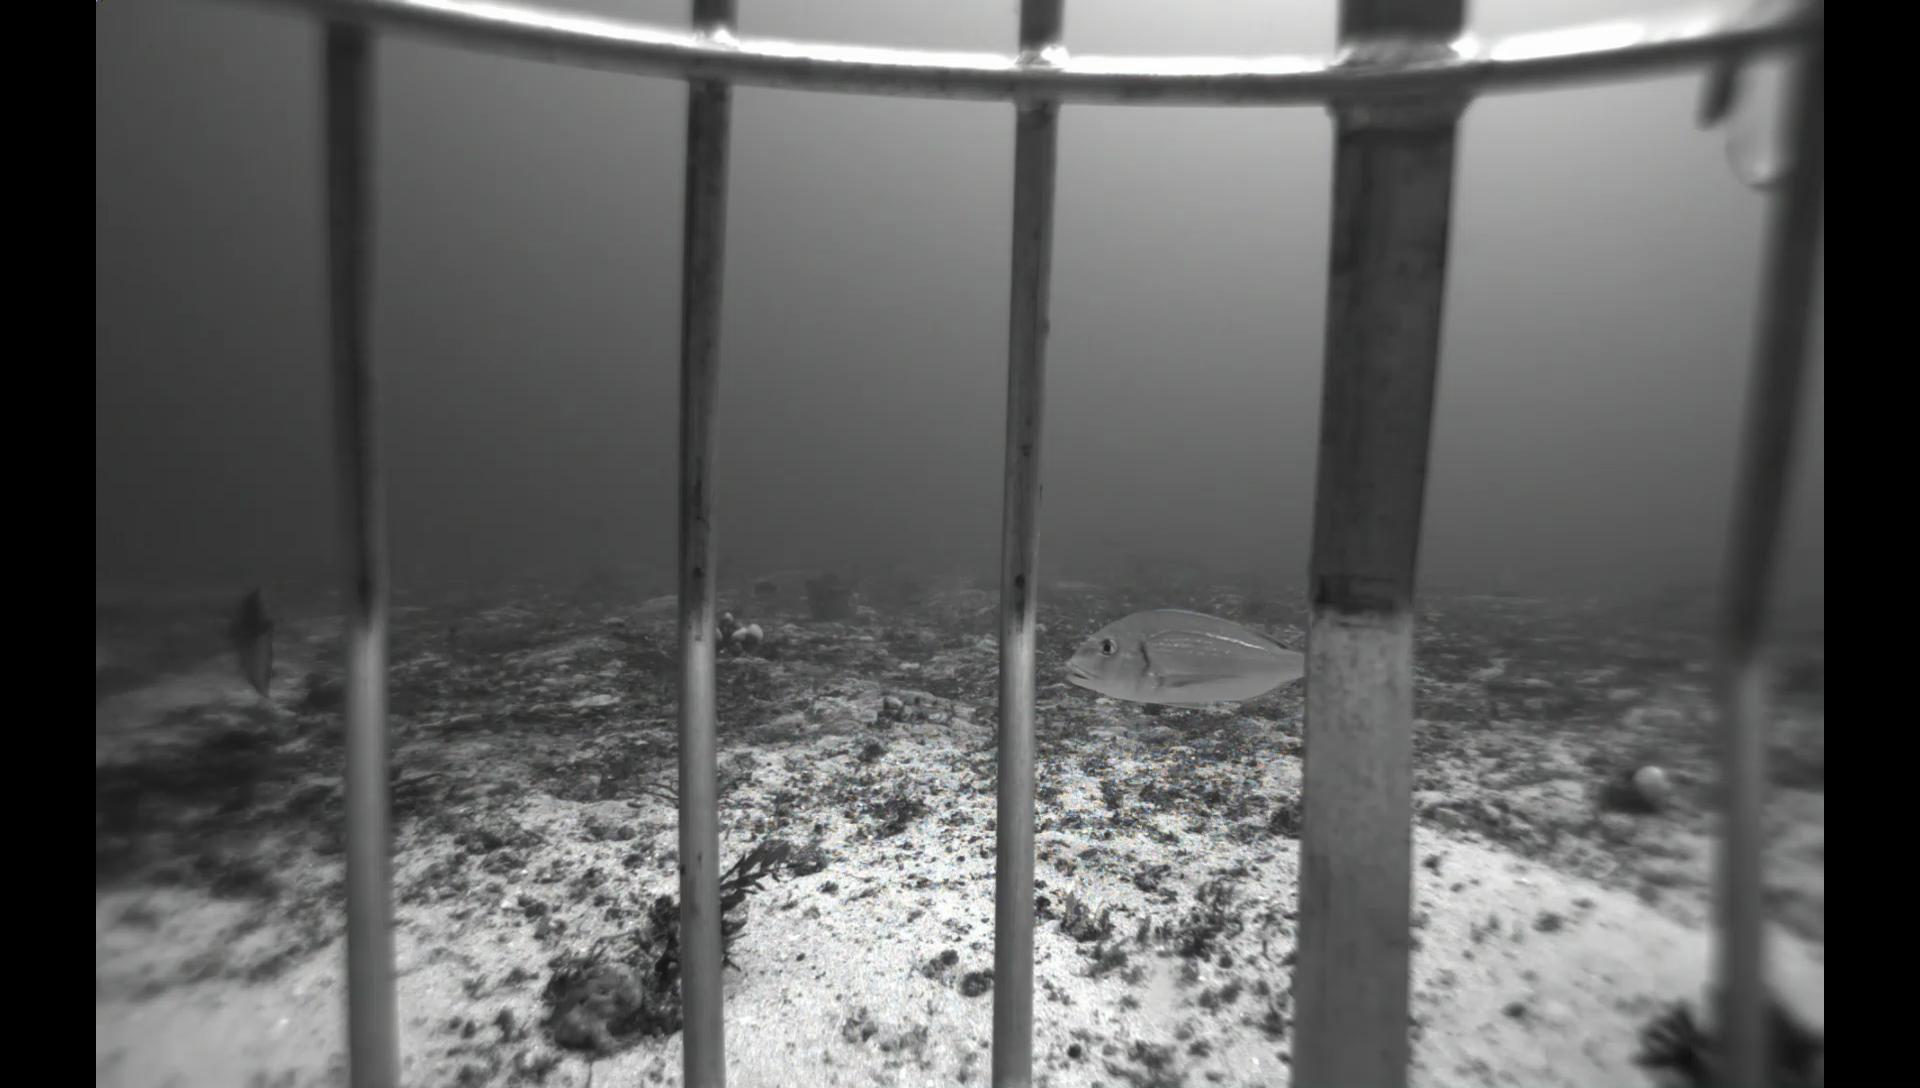EPINEPHELUSMORIO-170021211: (214, 570, 302, 712)
PAGRUSPAGRUS-170212302: (1051, 601, 1309, 720)
PRISTIGENYSALTA-170050401: (286, 673, 344, 719)
